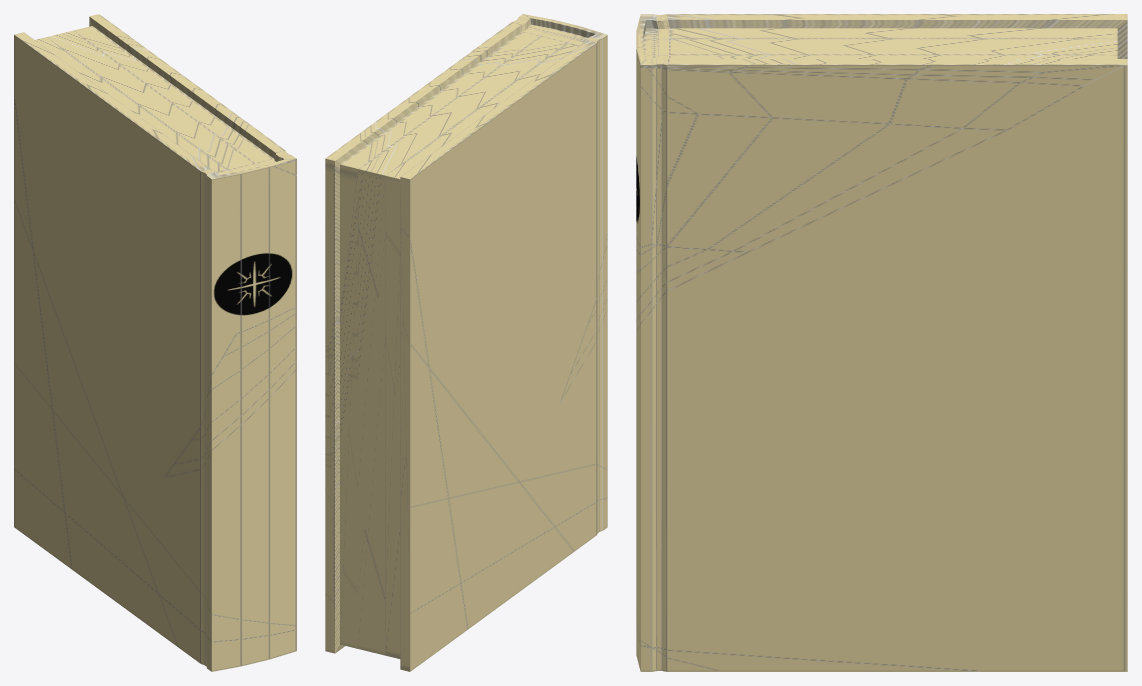
Rendered from book3.fbx.
3 renders of one model, left to right at view 1: azimuth 30°, elevation 25°; view 2: azimuth 150°, elevation 25°; view 3: azimuth 270°, elevation 25°, orthographic. The views are drawn at different scales.
Visible parts, largest first — view 1: Architexture; view 2: Architexture; view 3: Architexture.
Part boxes in pixels (x1,y1,x2,y2): Architexture: (14,14,296,671); Architexture: (325,14,607,671); Architexture: (636,14,1127,671).
Bounding box in the file's own units: 2.71 × 15 × 11.01.
1 material, 1 textured.
